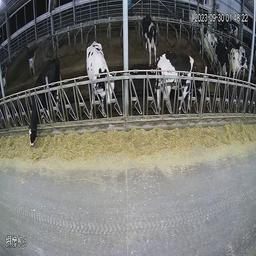cow: (29, 58, 61, 149), (165, 54, 214, 113), (83, 38, 121, 110), (139, 11, 159, 65), (200, 21, 217, 65), (231, 44, 249, 79), (186, 4, 198, 38)
